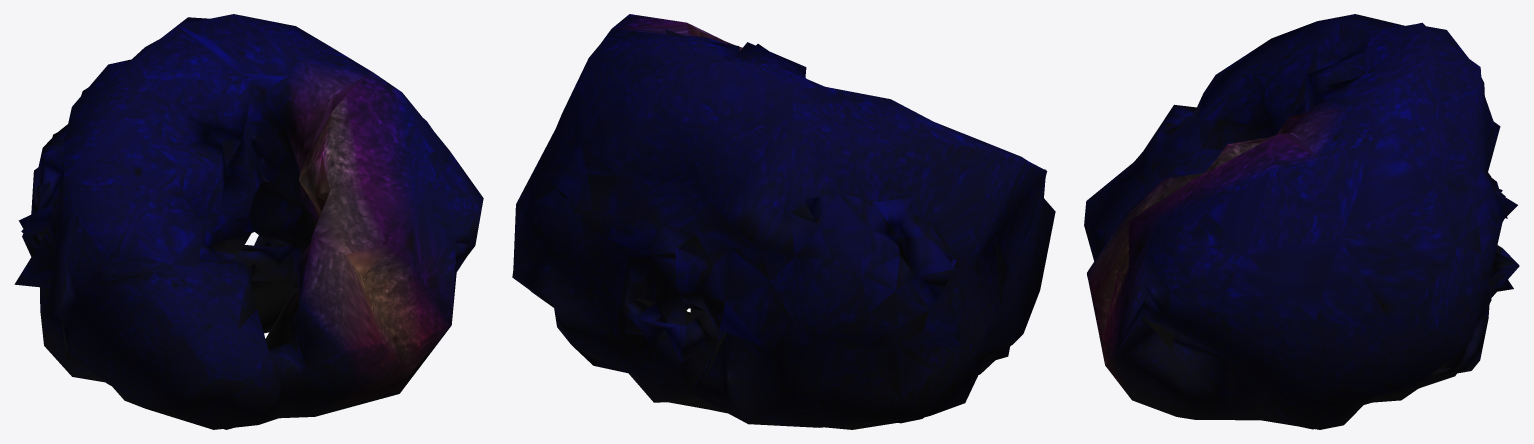
The model's file is pullstone_far.glb.
3 renders of one model, left to right at view 1: azimuth 30°, elevation 25°; view 2: azimuth 150°, elevation 25°; view 3: azimuth 270°, elevation 25°, orthographic. The views are drawn at different scales.
Parts seen in each view (by area): view 1: pullstone_far; view 2: pullstone_far; view 3: pullstone_far.
Boxes of the visible parts, box(x1,y1,x2,y2) form: pullstone_far: box(14, 14, 483, 429); pullstone_far: box(512, 14, 1055, 429); pullstone_far: box(1084, 14, 1519, 429).
Size of the model in its own units: 1.11 by 0.8178 by 0.9767.
1 material, 1 textured.
